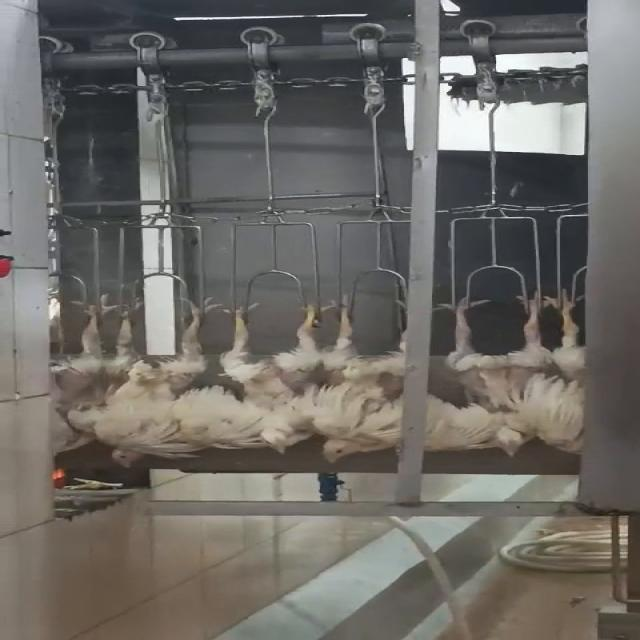chicken: (427, 292, 560, 462), (98, 285, 216, 472), (219, 294, 341, 458), (307, 291, 418, 467), (35, 280, 112, 460), (544, 279, 587, 461)
